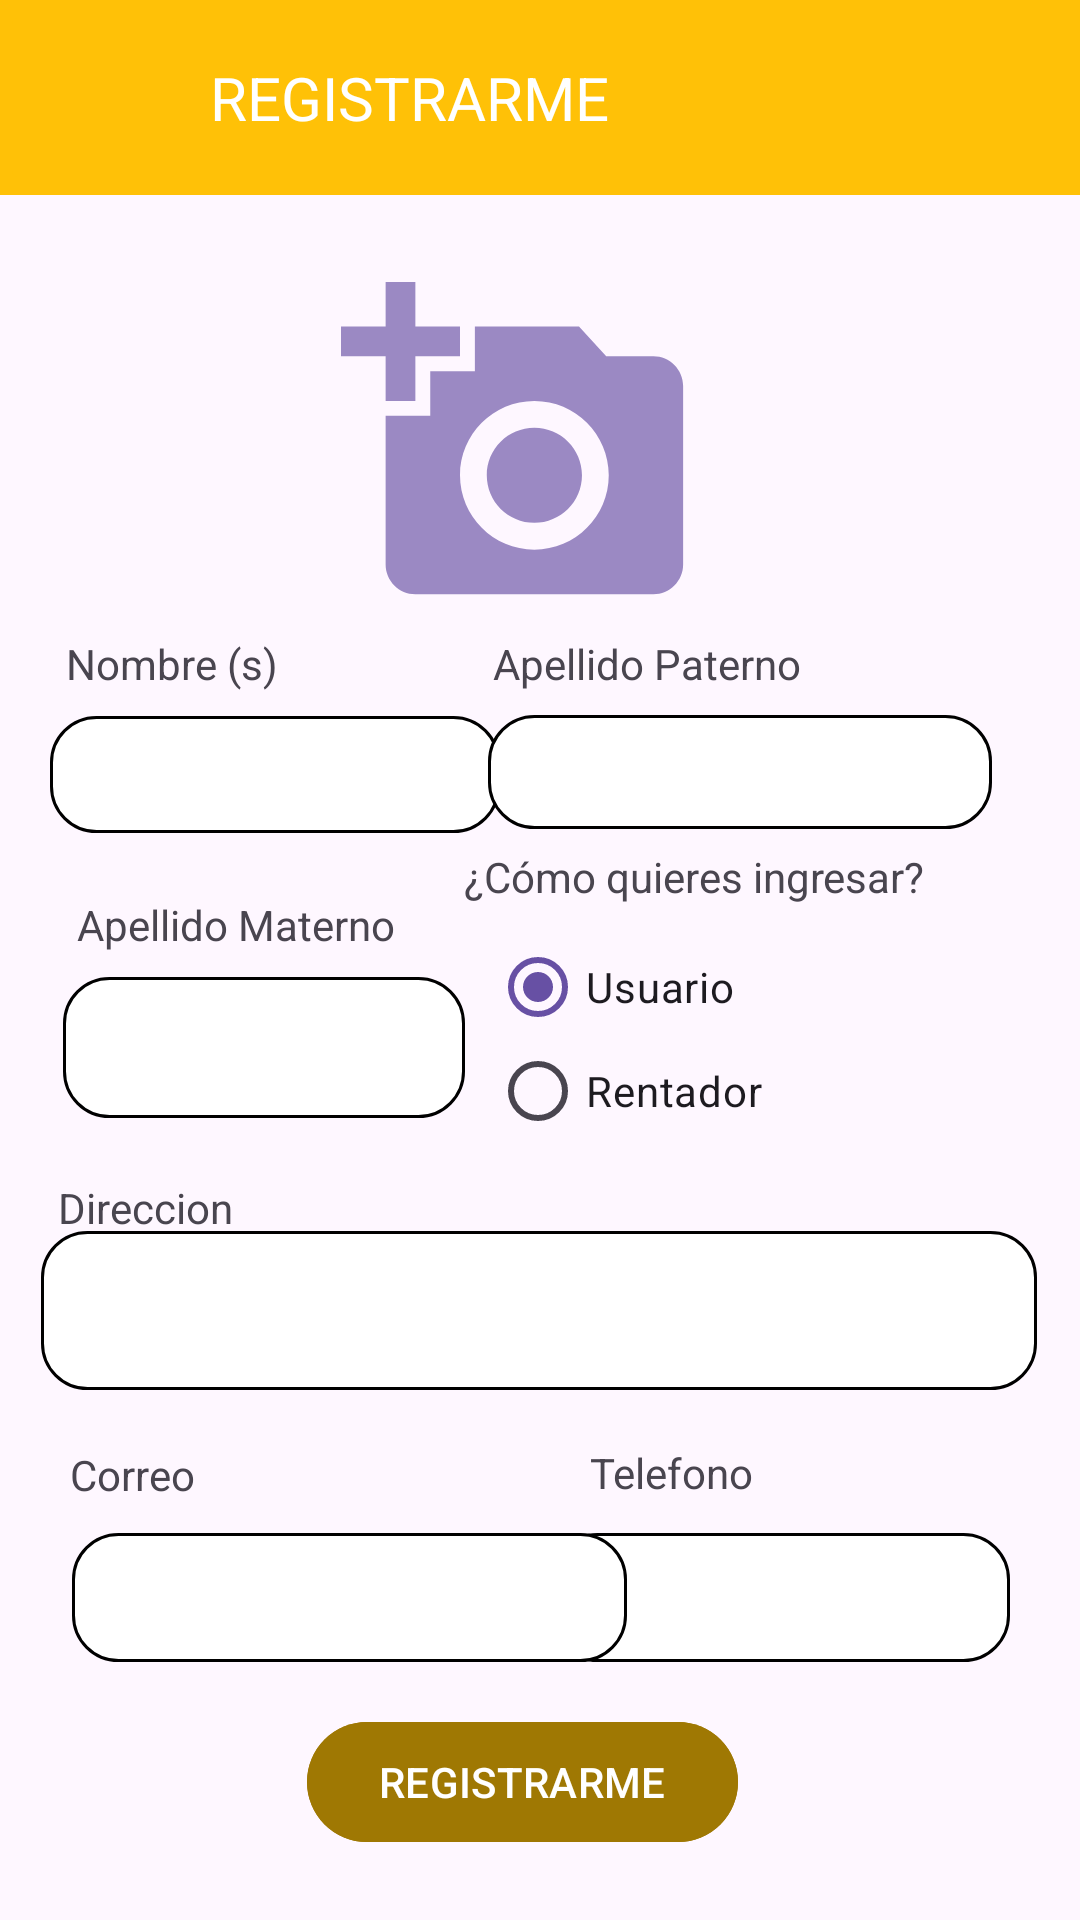

Where to tap for icons on this 1080 × 1920 app screen, as point (x, y):
addn: point (512, 438)
